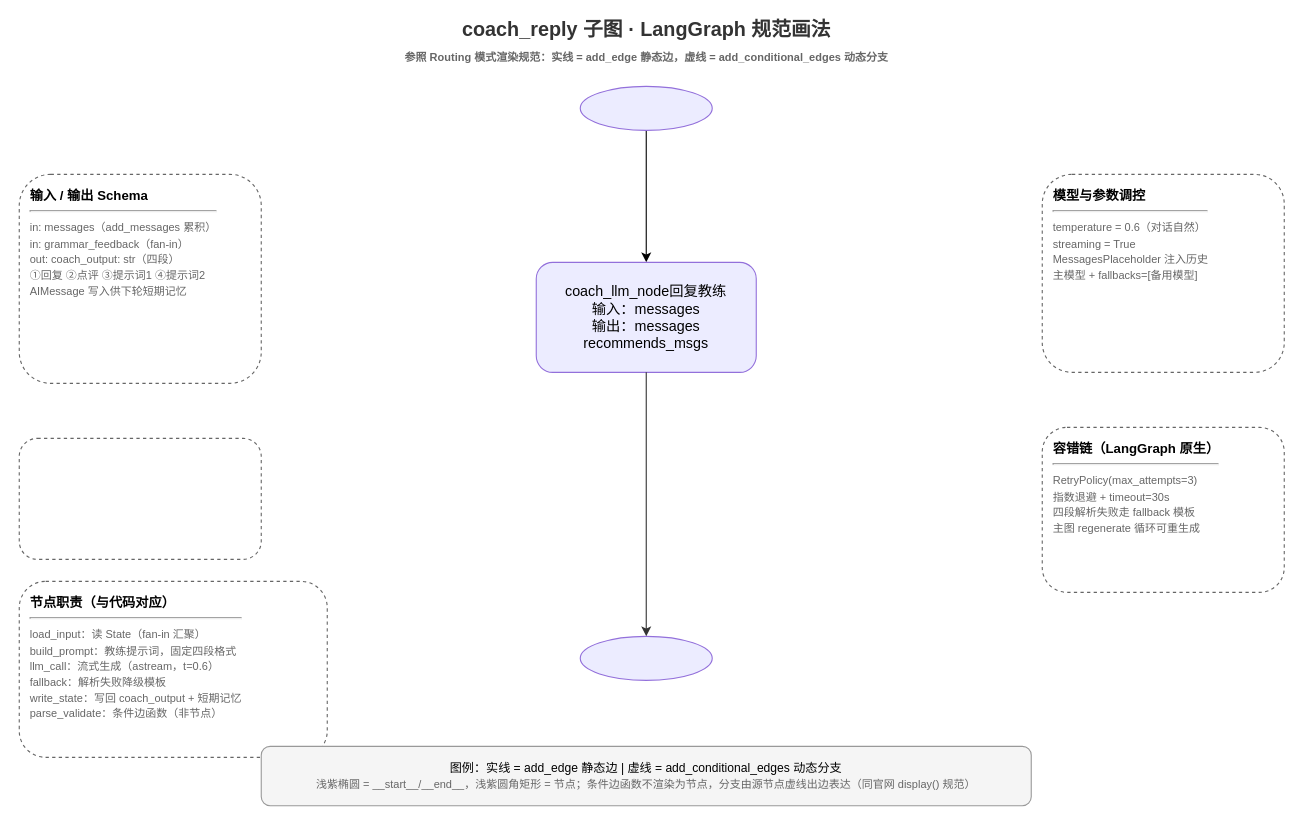
This 1304x825 diagram has some shape labels left out. Each missing label, with the centre of its shape:
__end__: the point at 645,657
__start__: the point at 645,107
可观测性 LangSmith trace 全链路 astream 流式 + 首字延迟统计: the point at 139,498
